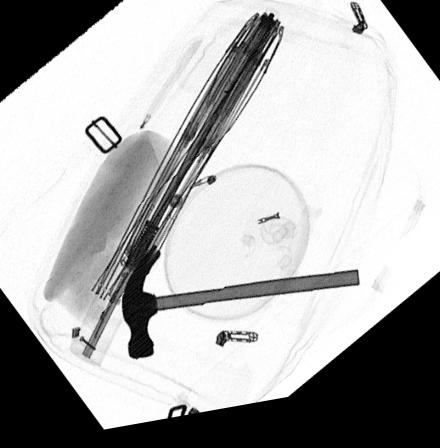Hammer: (119, 247, 357, 364)
